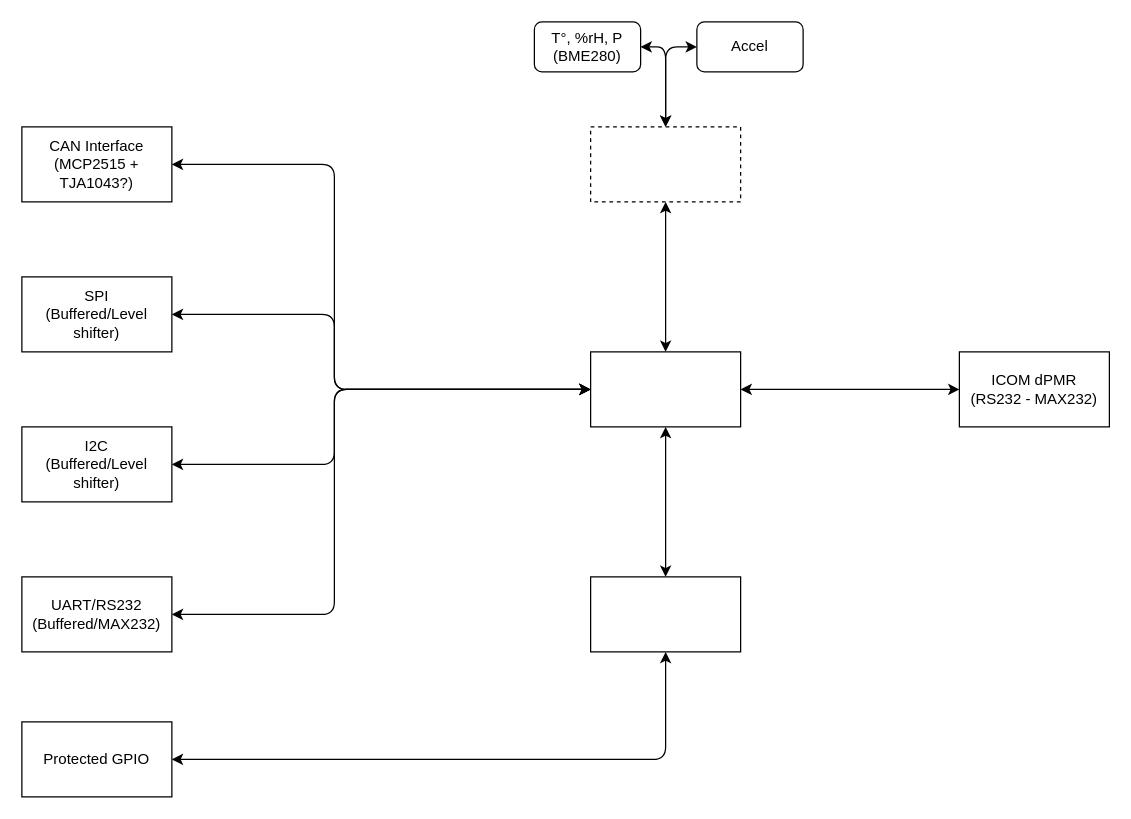
Image size: 1131x819. Some labels were removed from this diagram. The shapes that lost their labels are listed below. From the top down, each one's centre as x and y in pixels, then its label:
At point 665,164: "Integrated Sensors".
At point 665,389: "RP2040 MCU".
At point 665,614: "Shift-registers & ADC".
